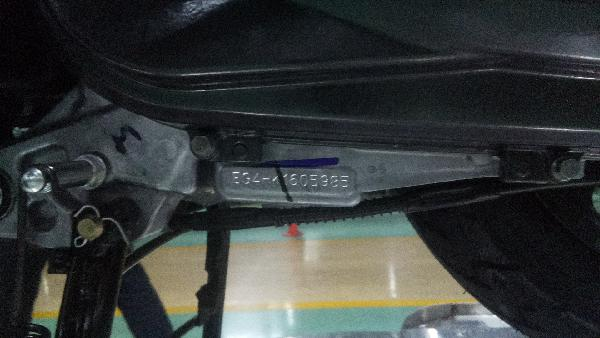box: (231, 170, 349, 189)
